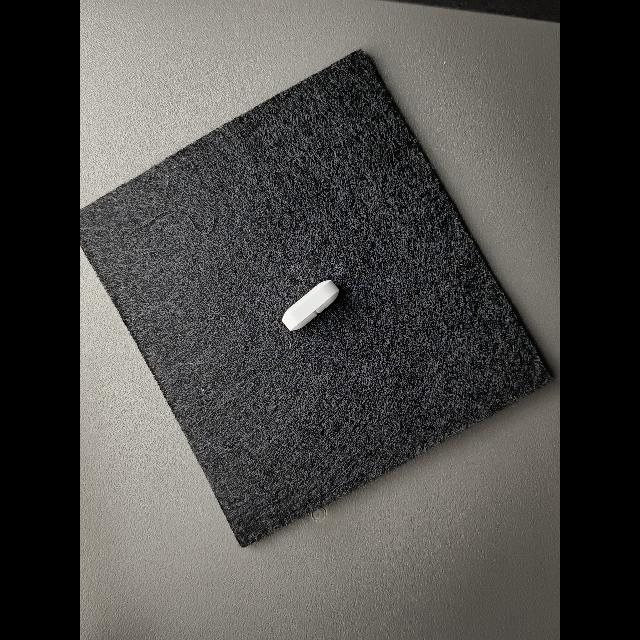Intact Pill: (281, 280, 339, 331)
